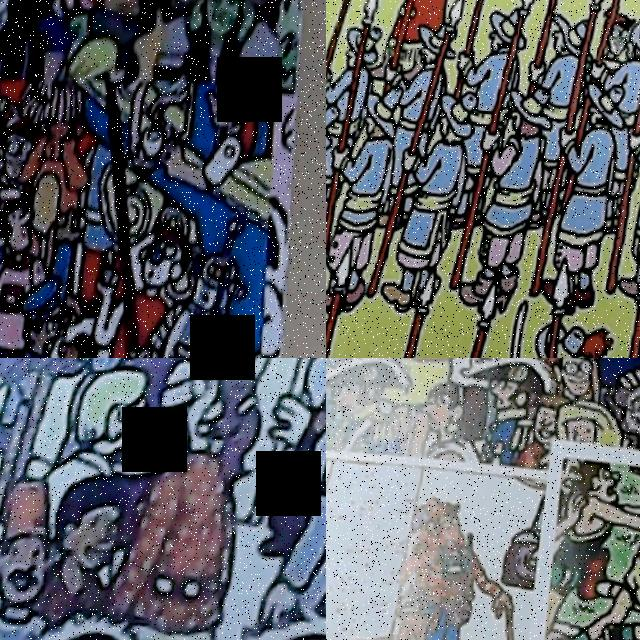waldo: (0, 93, 47, 184), (423, 491, 476, 545), (533, 358, 603, 395), (599, 0, 640, 62)
